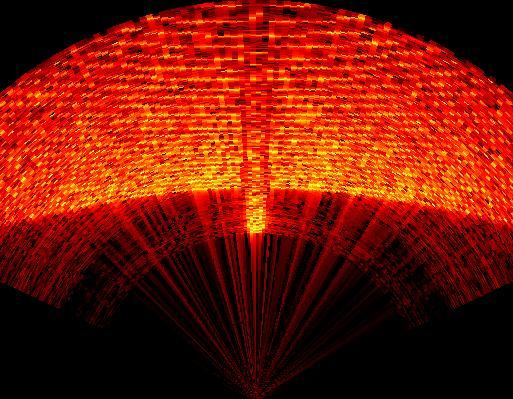pipe: (238, 8, 270, 233)
